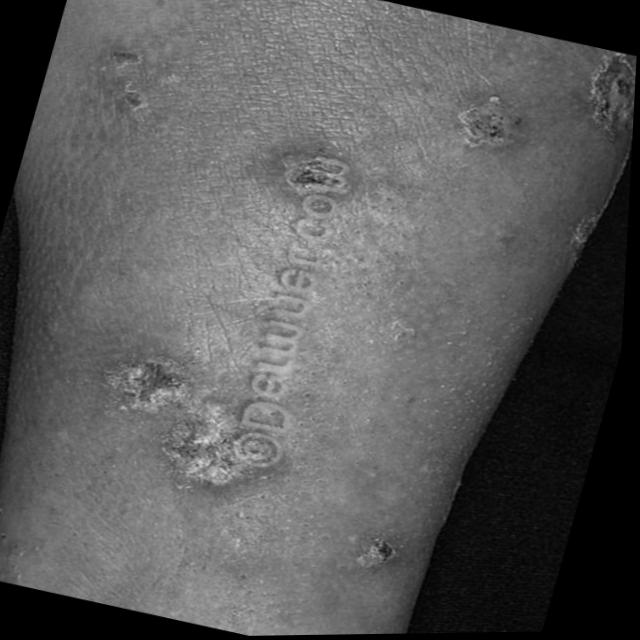Eczema: (92, 359, 271, 491), (553, 53, 637, 236), (92, 39, 196, 127), (263, 137, 347, 213), (450, 94, 516, 141), (367, 546, 402, 572)
